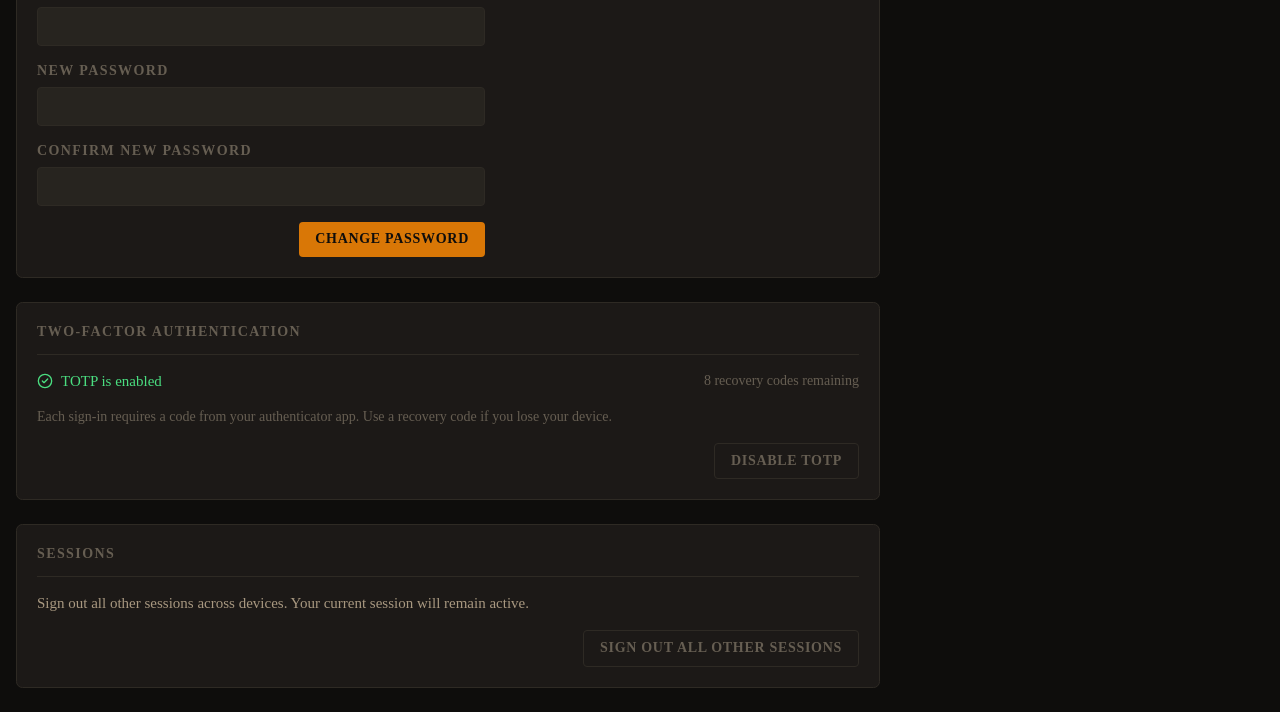
Test: AccountPage › disables TOTP after confirming with a code
(page scrolled)
Click the button "Disable TOTP" at (786, 461), box [714,443,859,479]
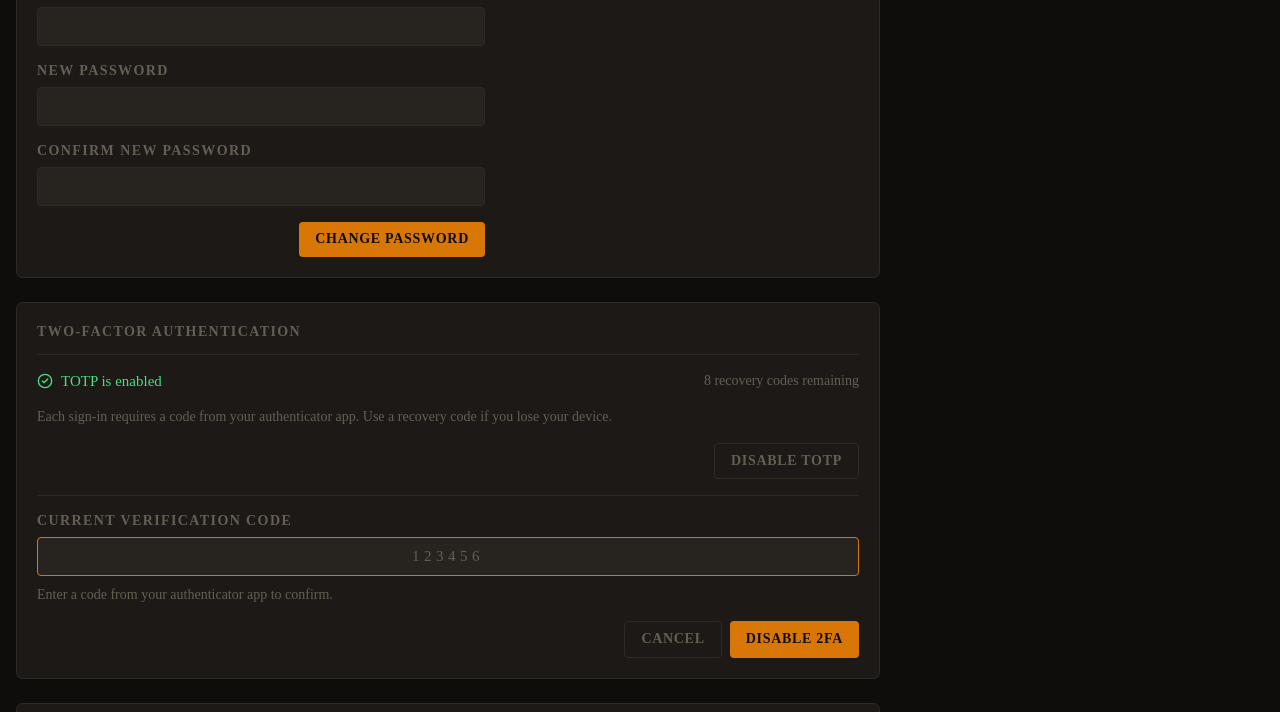
Type "654321" into the field with placeholder "123456" at (448, 557), box [37,537,859,576]
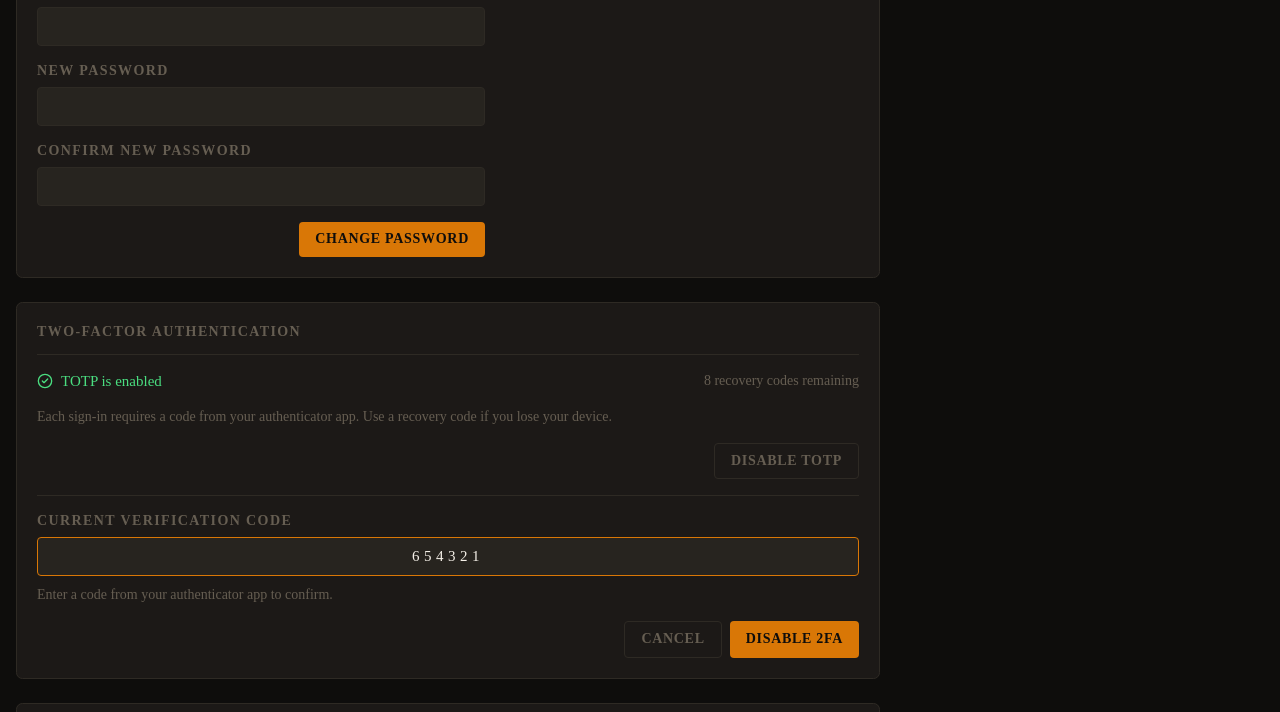
Click the button "Disable 2FA" at (794, 639), box [730,621,859,658]
(page scrolled)
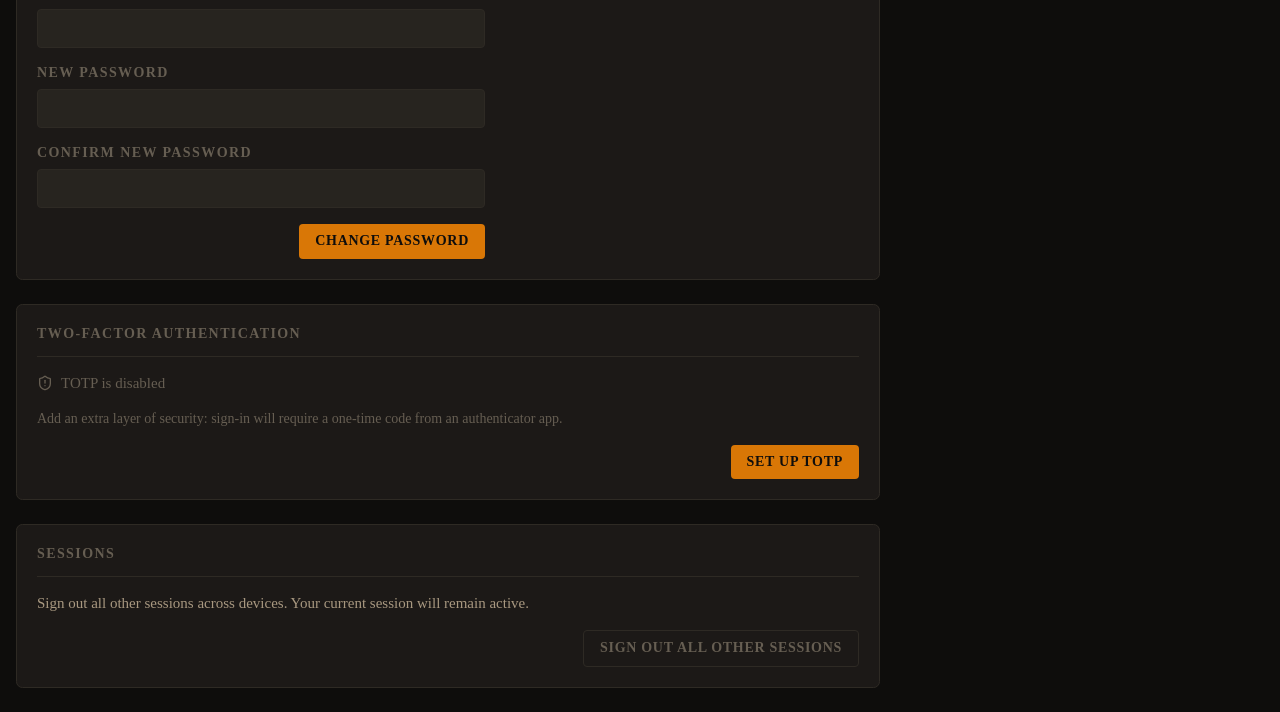
Expected: the text "TOTP is disabled" is shown, [61,373,165,394]
